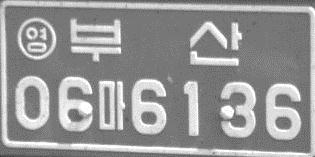0: (13, 74, 49, 131)
1: (173, 79, 211, 136)
3: (219, 81, 256, 138)
6: (129, 78, 167, 134), (264, 83, 301, 140), (57, 75, 93, 132)
마: (96, 78, 127, 132)
부산_D: (69, 16, 243, 66)
영: (15, 16, 57, 62)
